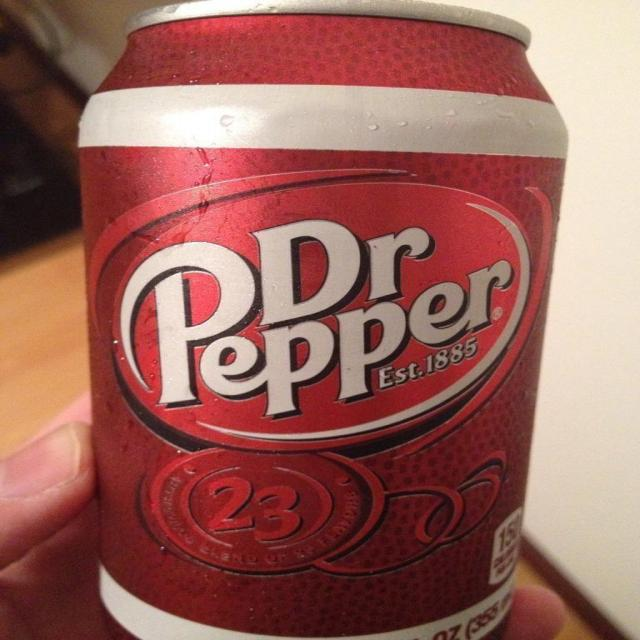tin can: (76, 1, 570, 640)
